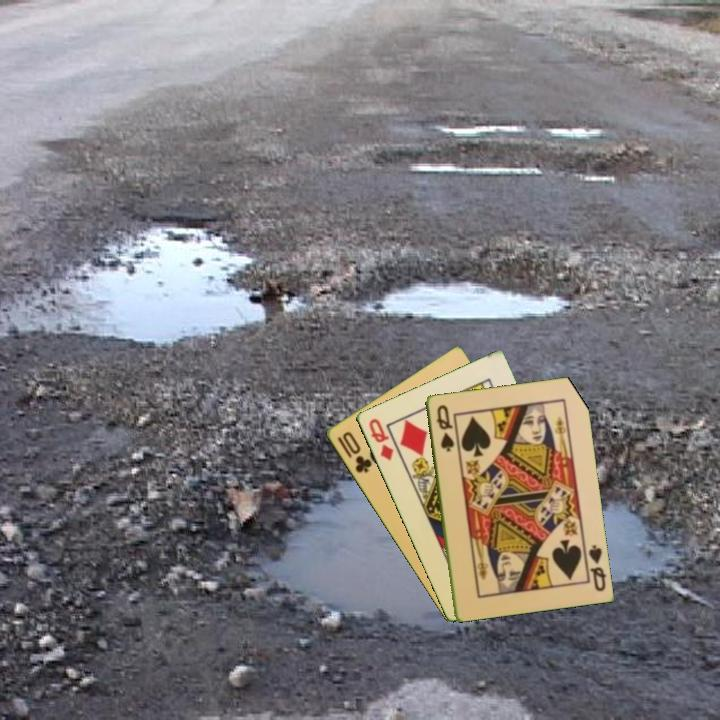10c: (333, 428, 375, 476)
Qd: (365, 415, 396, 463)
Qs: (581, 541, 609, 594), (433, 401, 457, 454)
